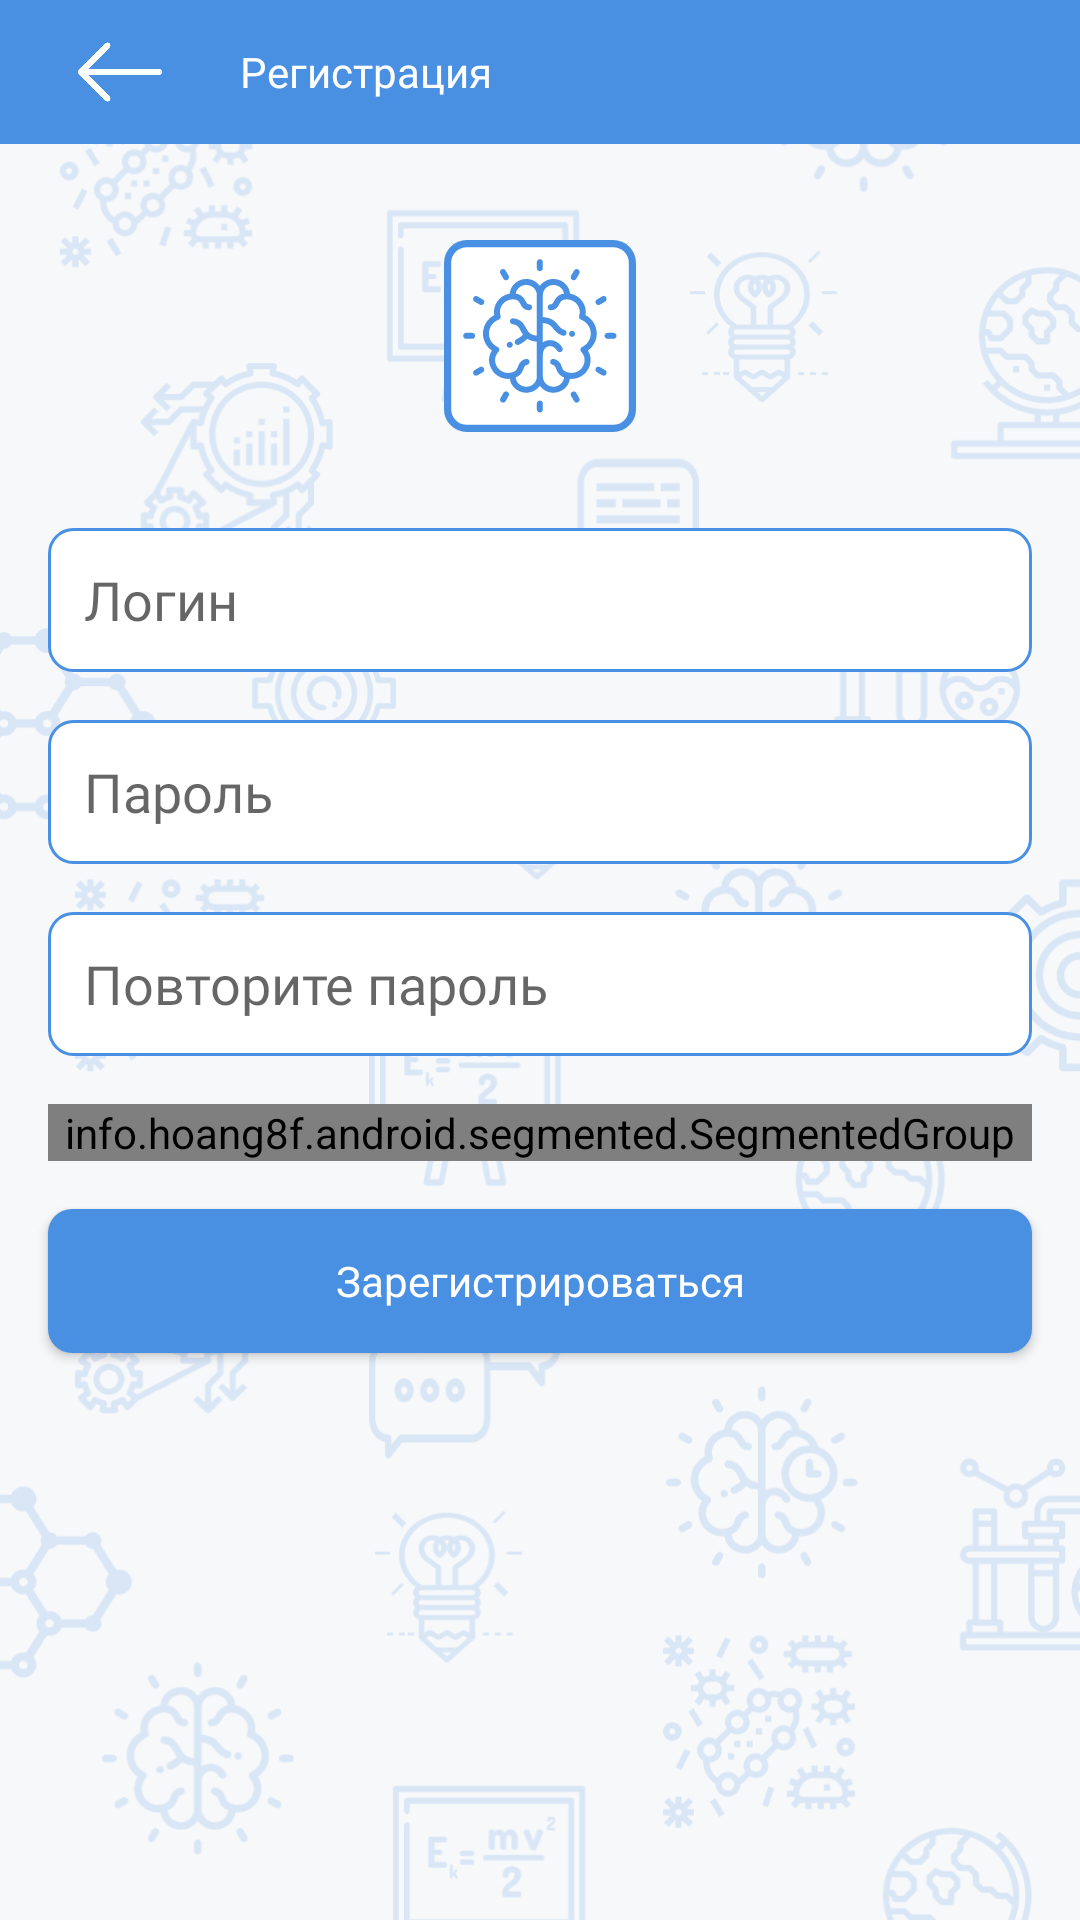

Named icons in this screenshot (1080×1920) and their centers, (x,y):
back: (120,72)
